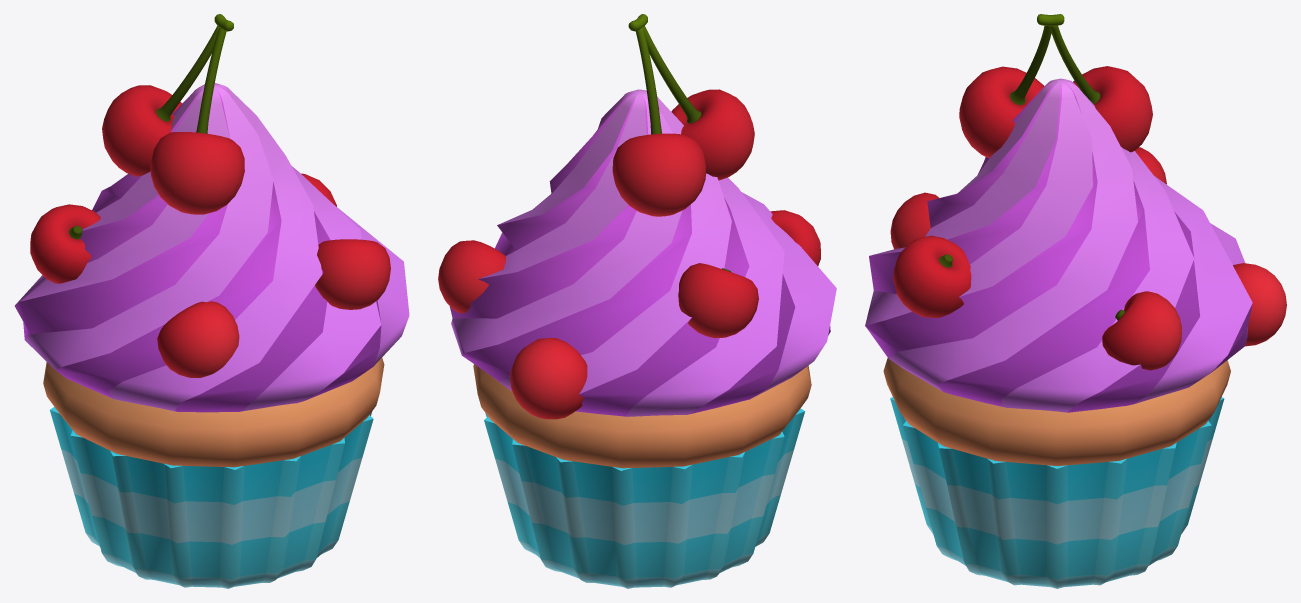
The model's file is Cupcake_Cherry_V2_00.fbx.
3 renders of one model, left to right at view 1: azimuth 30°, elevation 25°; view 2: azimuth 150°, elevation 25°; view 3: azimuth 270°, elevation 25°, orthographic.
Parts seen in each view (by area): view 1: Cupcake_Cherry_V2_00; view 2: Cupcake_Cherry_V2_00; view 3: Cupcake_Cherry_V2_00.
Boxes of the visible parts, box(x1,y1,x2,y2) form: Cupcake_Cherry_V2_00: box(14, 14, 409, 588); Cupcake_Cherry_V2_00: box(438, 14, 836, 588); Cupcake_Cherry_V2_00: box(865, 14, 1286, 588).
Size of the model in its own units: 36.59 by 54.92 by 39.44.
